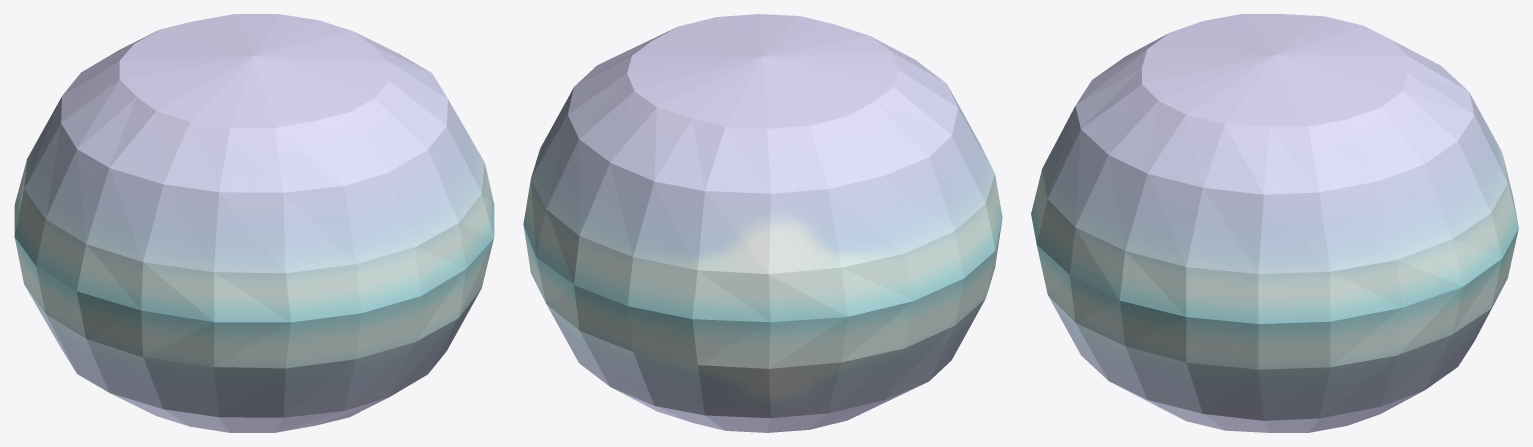
Rendered from C3M1_SKY.obj.
The picture shows the model from 3 angles, left to right: view 1: azimuth 30°, elevation 25°; view 2: azimuth 150°, elevation 25°; view 3: azimuth 270°, elevation 25°; orthographic projection.
Visible parts, largest first — view 1: Node 0; view 2: Node 0; view 3: Node 0.
Boxes of the visible parts, x1,y1,x2,y2 form: Node 0: (14,14,494,432); Node 0: (523,14,1002,432); Node 0: (1031,14,1518,432).
Bounding box in the file's own units: 0.88 × 0.67 × 0.88.
Materials: 1 (1 with a texture image).
